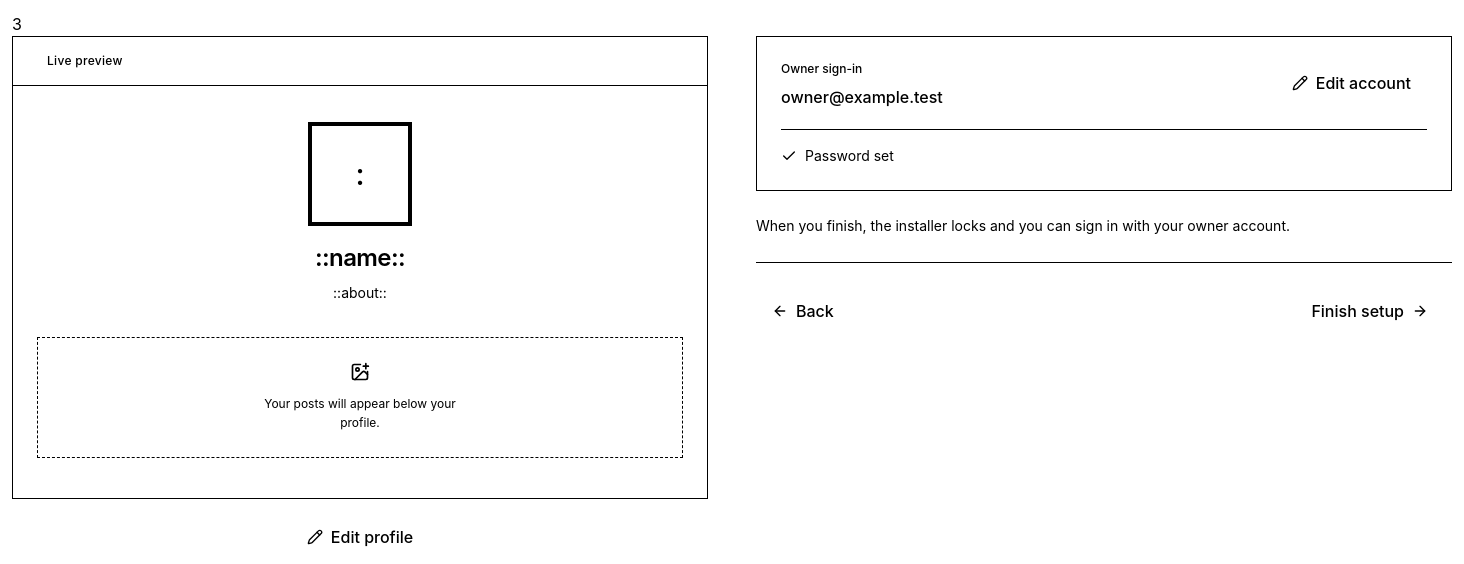
ReviewStep › Given a pending request, should disable the finish button
This screenshot has width=1464, height=564.
Expected: the text "owner@example.test" is shown, [781, 85, 943, 109]
Click the button "Finish setup": (1370, 311) [1287, 287, 1452, 335]
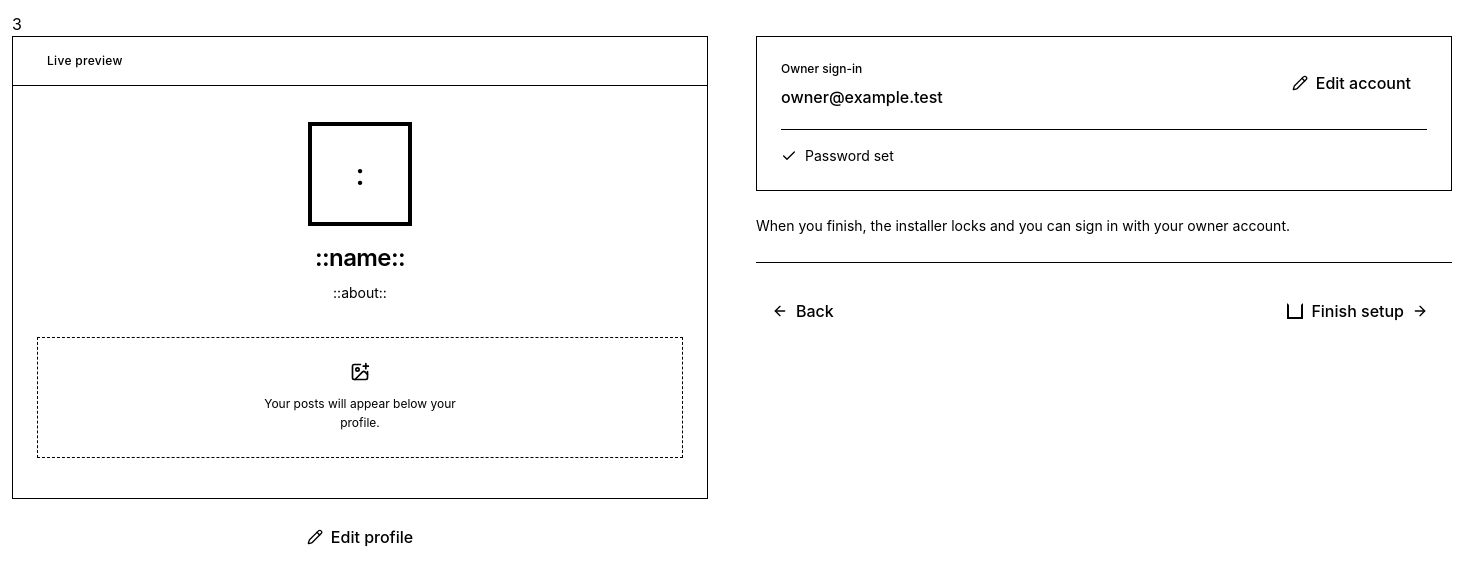
Expected: the button "Finish setup" is disabled, [1263, 287, 1452, 335]
